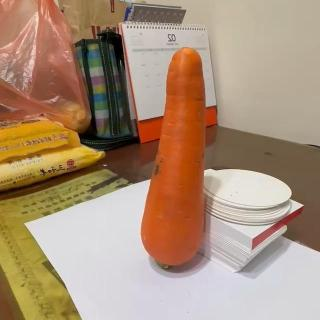carrot: (140, 46, 206, 268)
